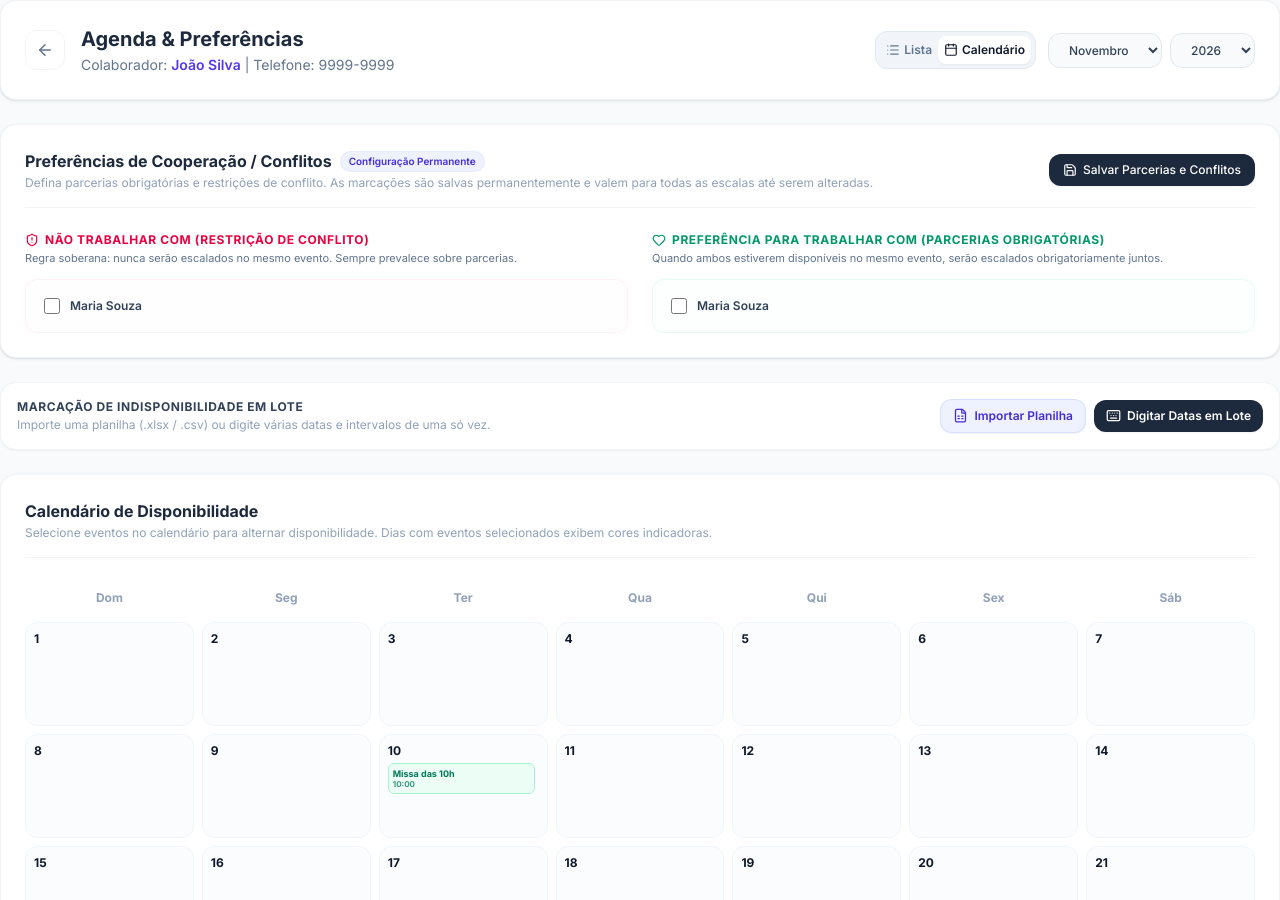
Test: DisponibilidadeColaborador Component › deve alternar a indisponibilidade ao clicar no card do evento
// Mudar para o modo lista
What coordinates should you click on to do the following:
click the button "Lista"
I would click on:
 (909, 50)
Its box is [880,36,938,64].
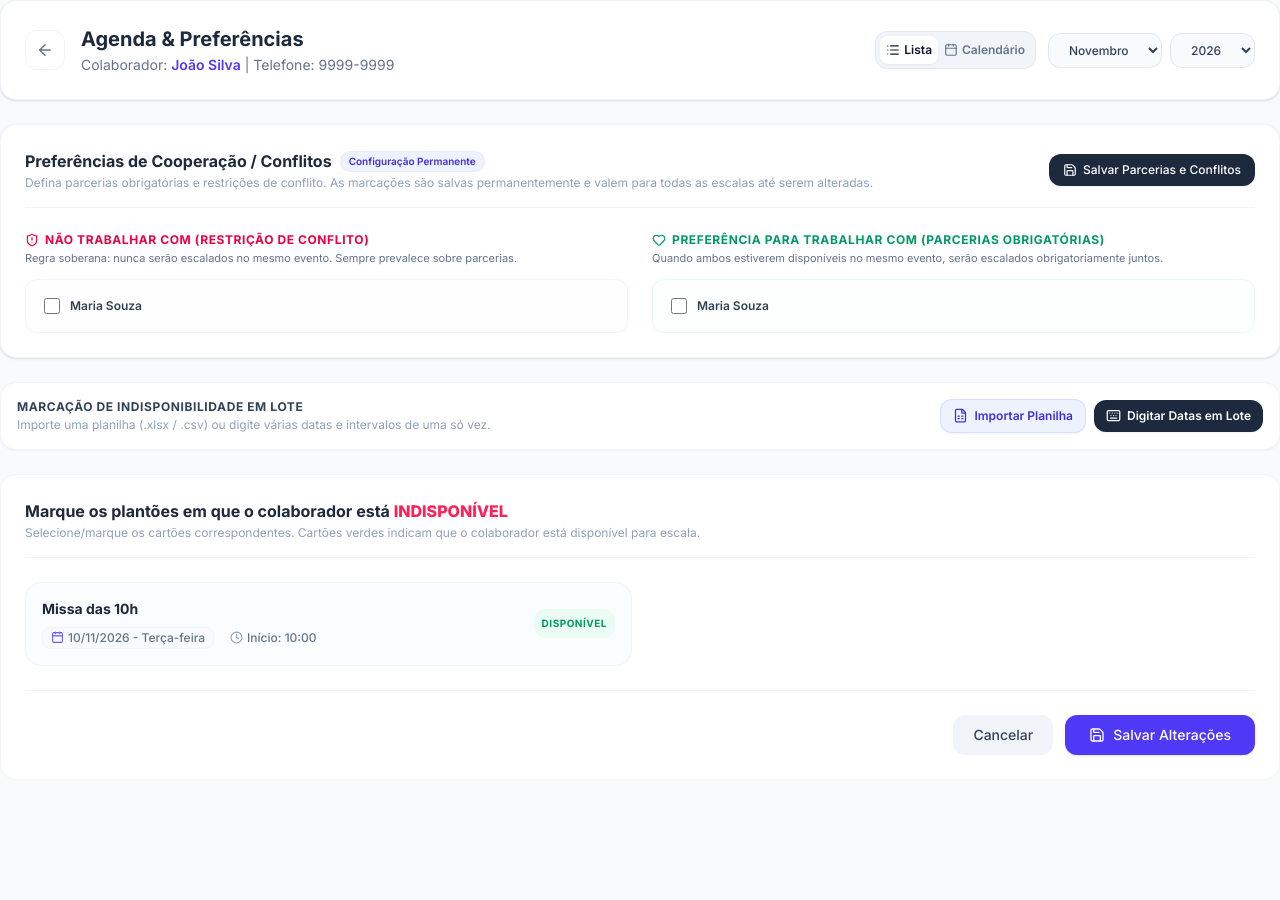
Check: the text "Disponível" is shown, box [542,617,607,630]
// Clicar no card do evento para torná-lo indisponível
What coordinates should you click on to do the following:
click the heading "Missa das 10h"
I would click on:
 (90, 608)
Its box is [42,600,138,616].
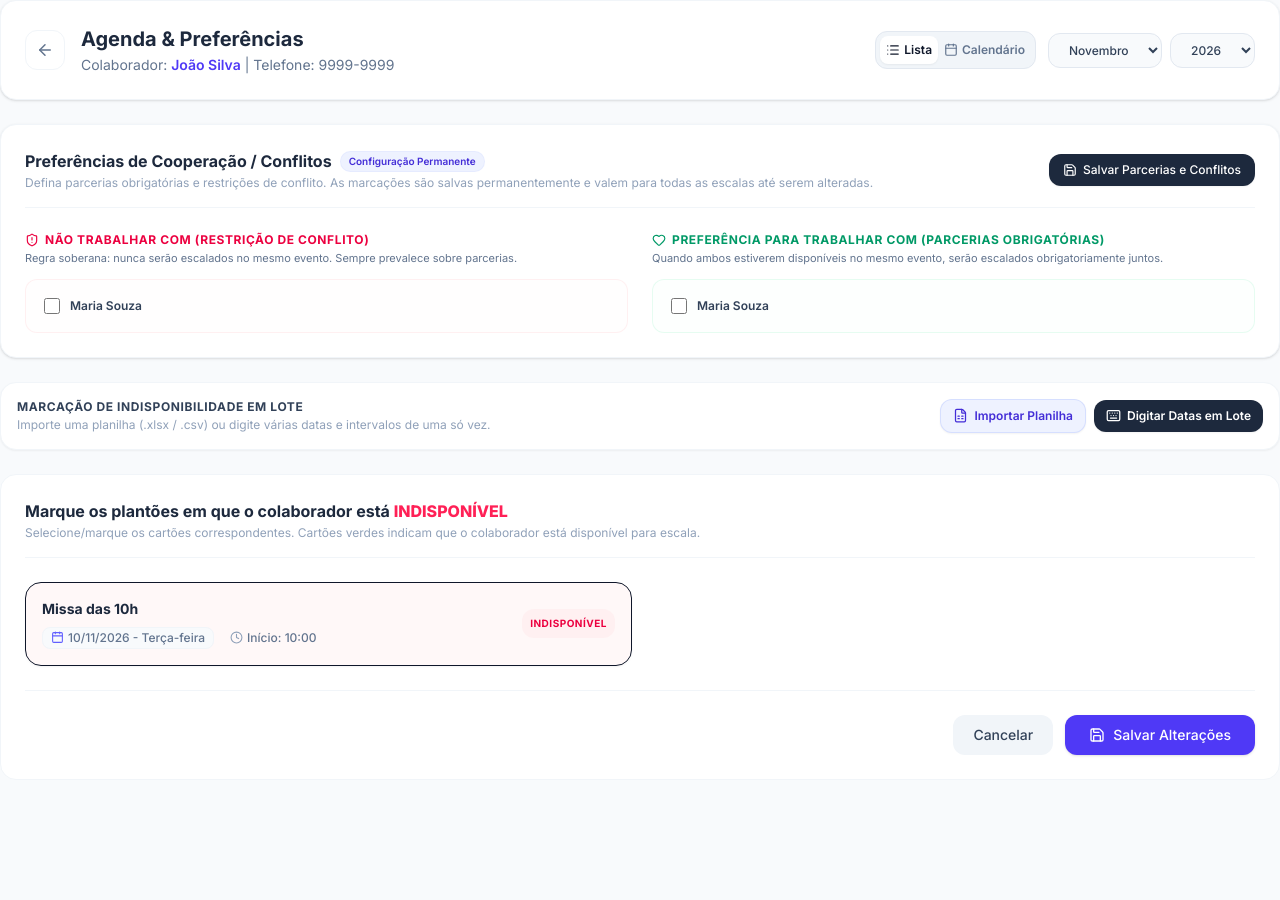
Check: the 2nd text "Indisponível" is shown, box [530,617,607,630]
